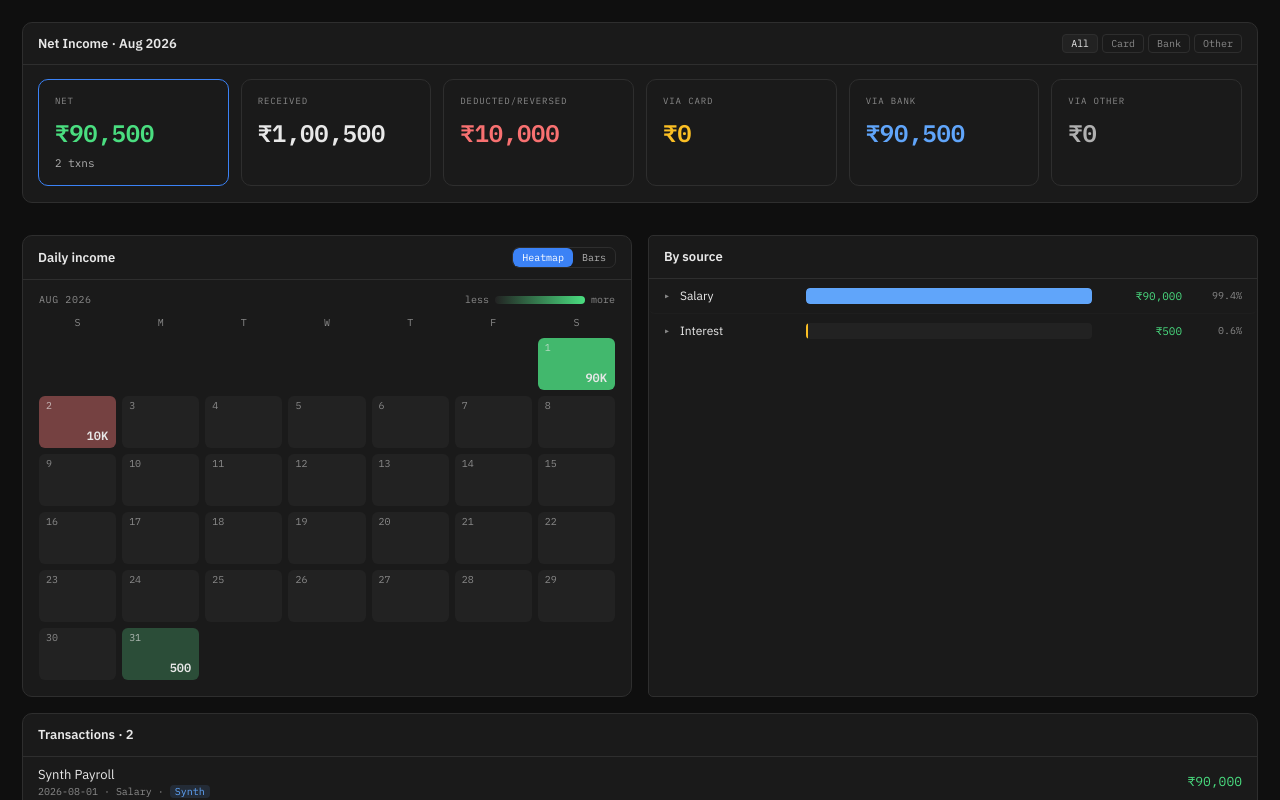
Test case: IncomeOverview › a source click opens its rows in the detail modal
expect the text "Salary" is shown: met, box [680, 288, 714, 303]
Click the button "▸ Salary ₹90,000 99.4%" at (953, 296), box [649, 279, 1257, 314]
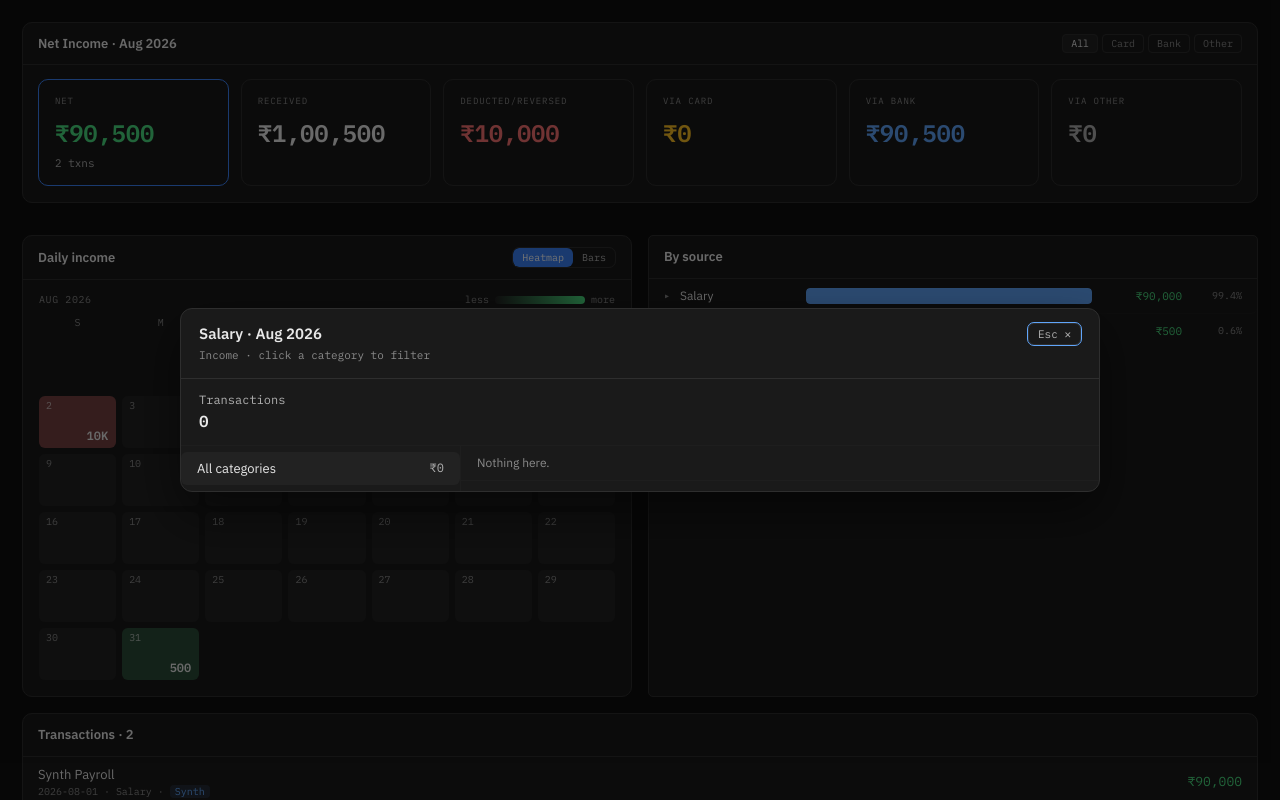
expect the dialog is shown: met, box [180, 308, 1100, 492]
